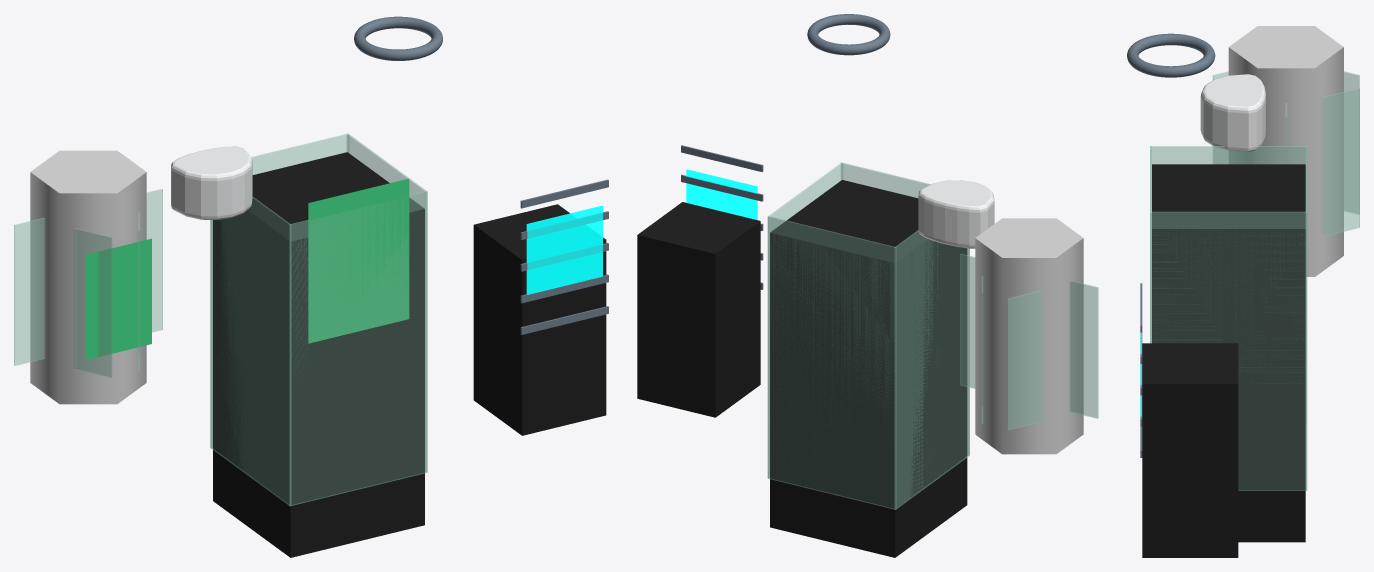
The model's file is buildings.glb.
3 views of the same model, side by side, from view 1: azimuth 30°, elevation 25°; view 2: azimuth 150°, elevation 25°; view 3: azimuth 270°, elevation 25° (orthographic). The views are drawn at different scales.
Size of the model in its own units: 31 by 27.8 by 12.13.
